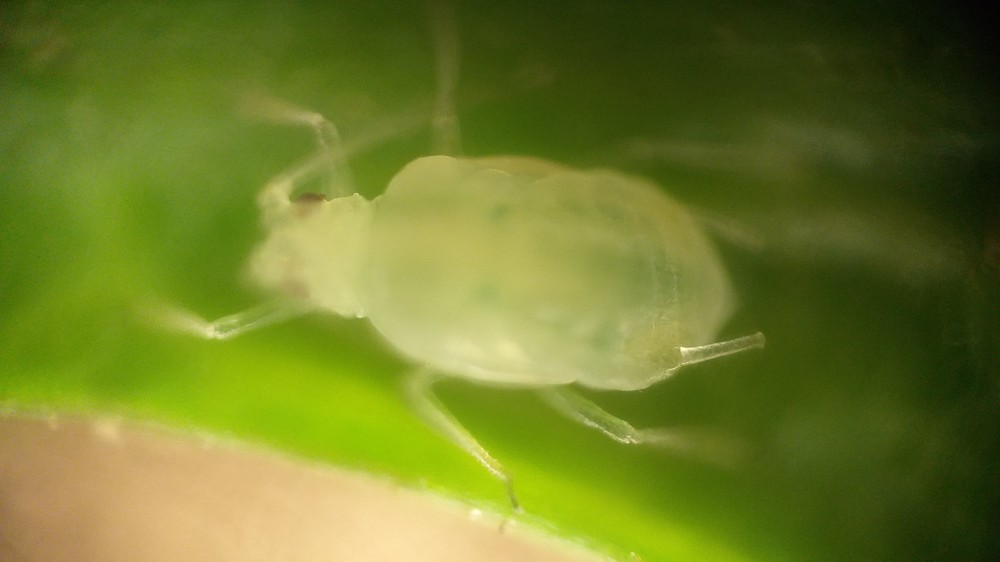Pulgon: (151, 9, 824, 503)
